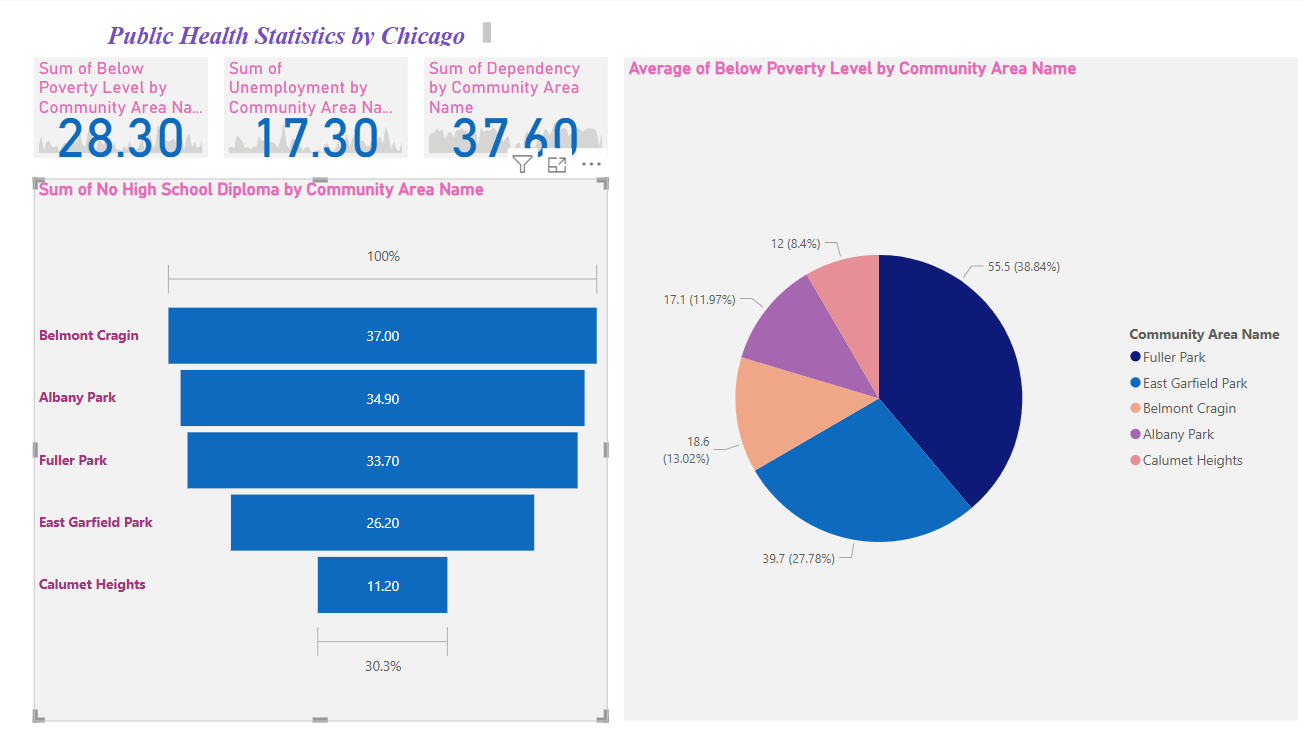

Layout of this report page (visuals, bound fields, positions):
{"tool":"powerbi","page":{"name":"Social and Economic Factors","canvas":[1280,720],"ordinal":1},"visuals":[{"type":"pieChart","fields":{"Category":["Public_Health_Statistics_-_Selected_public_health_indicators_by_Chicago_comm (3).Community Area Name"],"Y":["Avg(Public_Health_Statistics_-_Selected_public_health_indicators_by_Chicago_comm (3).Below Poverty Level)"]},"box":[610.1,60.3,659.5,648.5],"z":0},{"type":"kpi","fields":{"TrendLine":["Public_Health_Statistics_-_Selected_public_health_indicators_by_Chicago_comm (3).Community Area Name"],"Indicator":["Sum(Public_Health_Statistics_-_Selected_public_health_indicators_by_Chicago_comm (3).Unemployment)"]},"box":[219.4,60.3,179.6,98.7],"z":1},{"type":"kpi","fields":{"TrendLine":["Public_Health_Statistics_-_Selected_public_health_indicators_by_Chicago_comm (3).Community Area Name"],"Indicator":["Sum(Public_Health_Statistics_-_Selected_public_health_indicators_by_Chicago_comm (3).Below Poverty Level)"]},"box":[32.9,60.3,170,98.7],"z":2},{"type":"kpi","fields":{"TrendLine":["Public_Health_Statistics_-_Selected_public_health_indicators_by_Chicago_comm (3).Community Area Name"],"Indicator":["Sum(Public_Health_Statistics_-_Selected_public_health_indicators_by_Chicago_comm (3).Dependency)"]},"box":[414.1,60.3,179.6,98.7],"z":3},{"type":"funnel","fields":{"Category":["Public_Health_Statistics_-_Selected_public_health_indicators_by_Chicago_comm (3).Community Area Name"],"Y":["Sum(Public_Health_Statistics_-_Selected_public_health_indicators_by_Chicago_comm (3).Stroke (Cerebrovascular Disease))"]},"box":[32.9,178.2,560.8,530.6],"z":4},{"type":"textbox","box":[100.1,20.6,385.3,32.9],"z":5}]}

Visuals, with their boxes in screenshot pixels (x1, y1, x2, y2), scaled from the page's 1280x720 canvas onto the 1303x731 screenshot:
pieChart - Public_Health_Statistics_-_Selected_public_health_indicators_by_Chicago_comm (3).Community Area Name x Avg(Public_Health_Statistics_-_Selected_public_health_indicators_by_Chicago_comm (3).Below Poverty Level): 621, 61, 1292, 720
kpi - Public_Health_Statistics_-_Selected_public_health_indicators_by_Chicago_comm (3).Community Area Name x Sum(Public_Health_Statistics_-_Selected_public_health_indicators_by_Chicago_comm (3).Unemployment): 223, 61, 406, 161
kpi - Public_Health_Statistics_-_Selected_public_health_indicators_by_Chicago_comm (3).Community Area Name x Sum(Public_Health_Statistics_-_Selected_public_health_indicators_by_Chicago_comm (3).Below Poverty Level): 33, 61, 207, 161
kpi - Public_Health_Statistics_-_Selected_public_health_indicators_by_Chicago_comm (3).Community Area Name x Sum(Public_Health_Statistics_-_Selected_public_health_indicators_by_Chicago_comm (3).Dependency): 422, 61, 604, 161
funnel - Public_Health_Statistics_-_Selected_public_health_indicators_by_Chicago_comm (3).Community Area Name x Sum(Public_Health_Statistics_-_Selected_public_health_indicators_by_Chicago_comm (3).Stroke (Cerebrovascular Disease)): 33, 181, 604, 720
textbox: 102, 21, 494, 54
